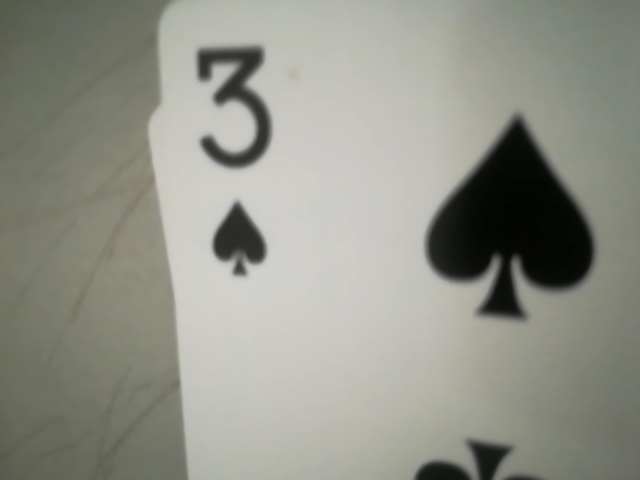ht 3: (182, 38, 284, 304)
